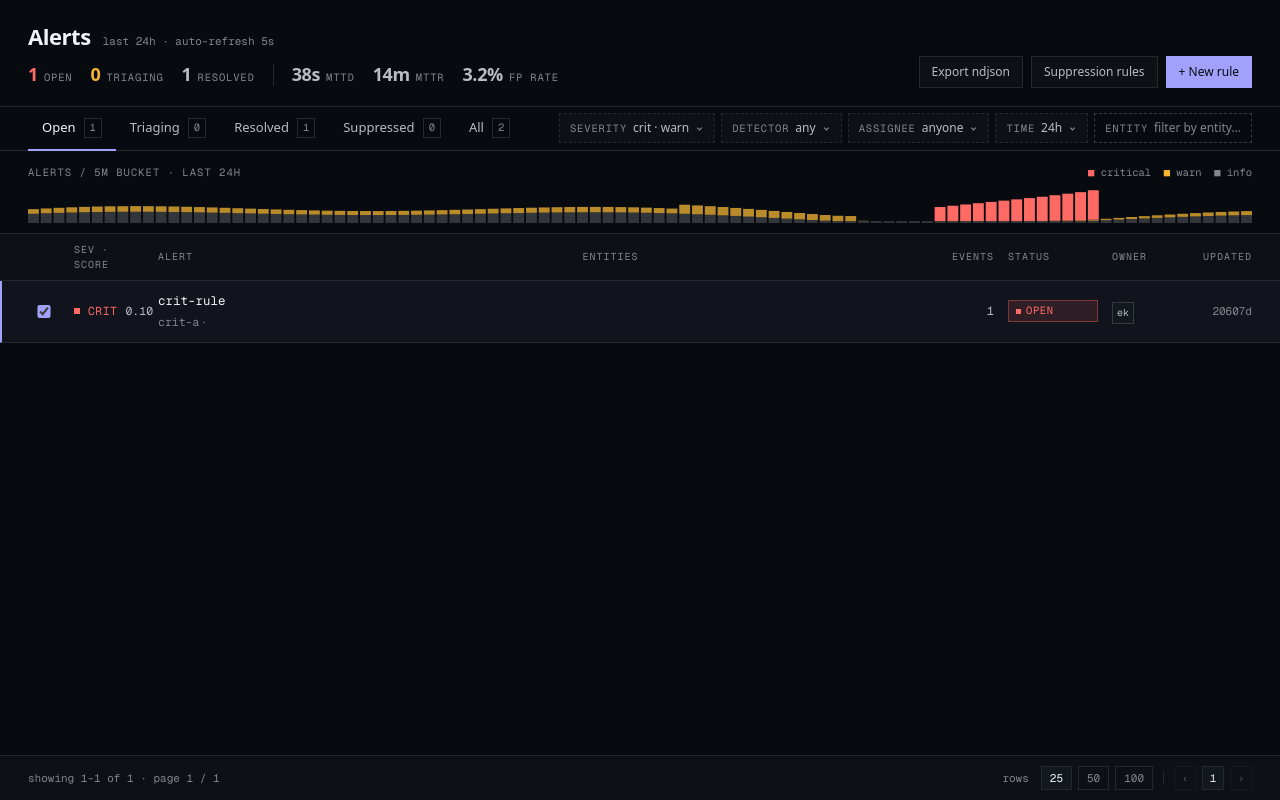
Test: AlertFeed integration › active tab filters rows by derived status
Expected: the text "crit-rule" is shown, [158,292,226,310]
What coordinates should you click on to do the following:
click the tab "Resolved 1"
I would click on:
 (275, 129)
Its box is [220,107,329,151].
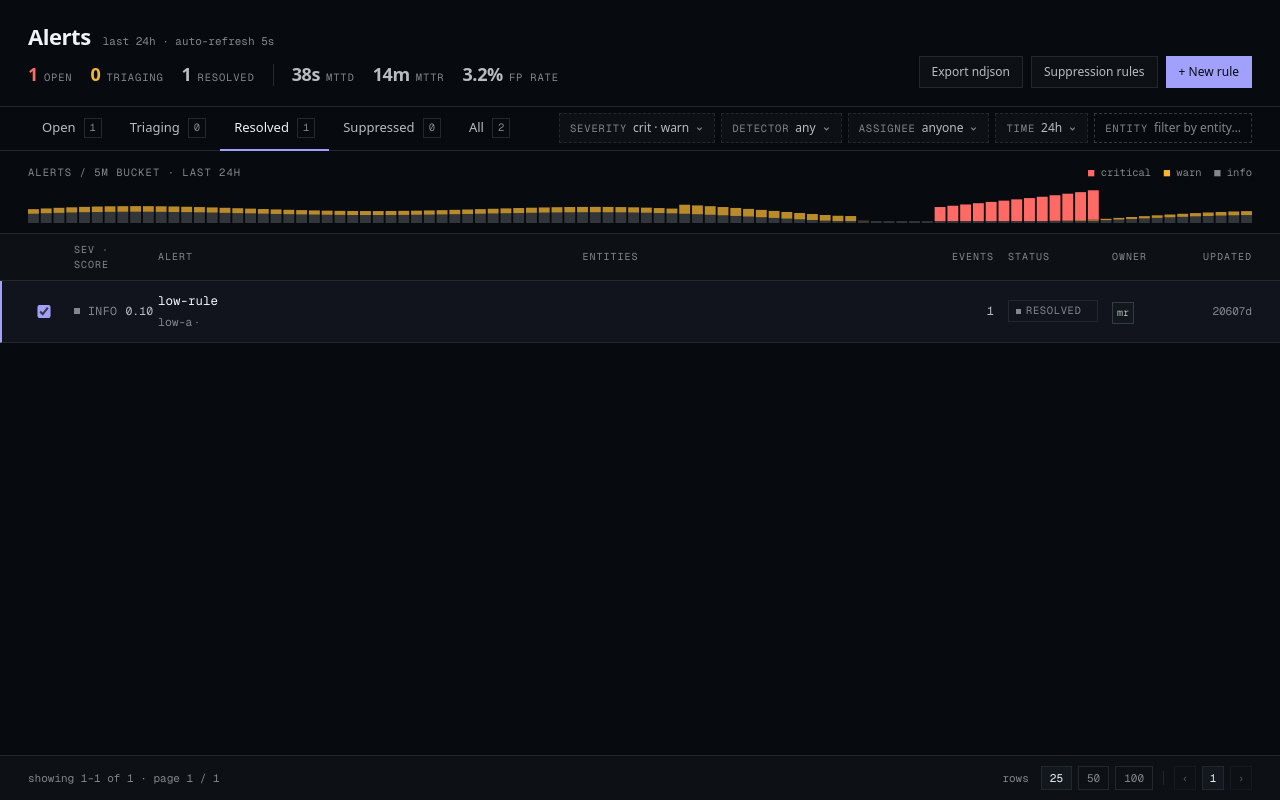
Expected: the text "low-rule" is shown, [158,292,218,310]
